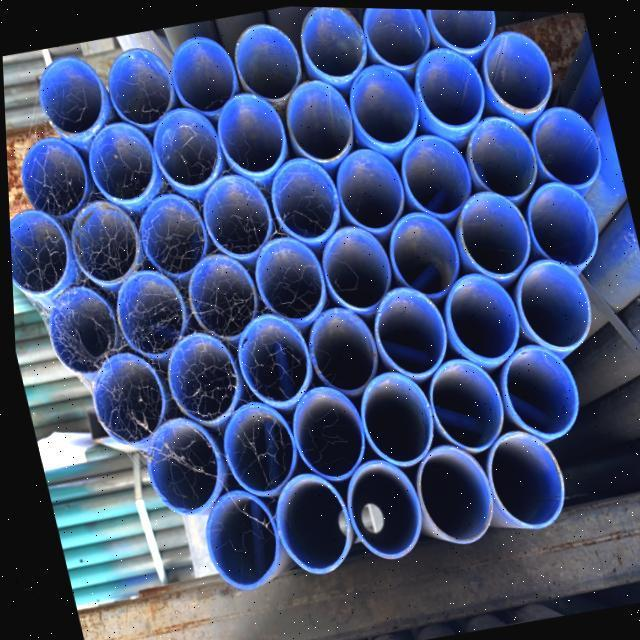pipe: (127, 415, 219, 515), (479, 421, 563, 526), (267, 471, 350, 576), (409, 440, 489, 548), (194, 490, 278, 592), (33, 283, 123, 376), (513, 178, 599, 273), (422, 349, 502, 451), (497, 336, 577, 438), (339, 455, 416, 560), (508, 254, 591, 350), (80, 349, 161, 447), (159, 328, 238, 428), (286, 383, 364, 484), (353, 364, 431, 465), (366, 284, 446, 381), (453, 185, 532, 281), (229, 311, 306, 409), (439, 269, 521, 361), (214, 400, 293, 495), (463, 110, 541, 199), (313, 224, 390, 314), (343, 57, 419, 148), (302, 304, 379, 393), (111, 266, 184, 359), (383, 210, 459, 299), (185, 252, 258, 344), (329, 144, 405, 232), (198, 170, 273, 259), (248, 235, 324, 322), (397, 132, 475, 216), (280, 77, 357, 162), (65, 199, 139, 287), (268, 154, 343, 240), (526, 100, 603, 182), (410, 46, 486, 129), (216, 89, 287, 177), (135, 188, 204, 276), (148, 102, 219, 187), (18, 135, 87, 221), (481, 31, 554, 112), (85, 122, 155, 205), (8, 209, 69, 302), (36, 57, 105, 139), (108, 47, 175, 129), (233, 22, 302, 101), (170, 34, 237, 115), (299, 5, 368, 80), (362, 6, 435, 68), (425, 7, 498, 51)
